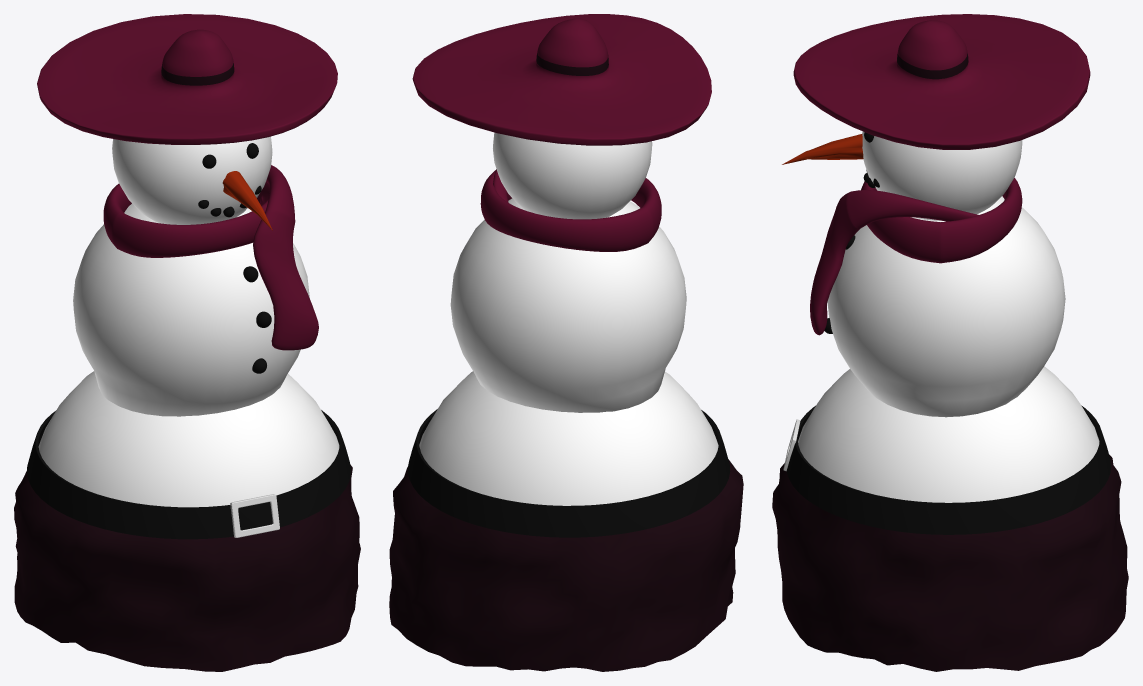
The model's file is Bonnefemme de neige.FBX.
3 views of the same model, side by side, from view 1: azimuth 30°, elevation 25°; view 2: azimuth 150°, elevation 25°; view 3: azimuth 270°, elevation 25° (orthographic).
Visible parts, largest first — view 1: Jupe, Cylinder034, Sphere003, Sphere002, Sphere001, Torus002, Torus001, Box001, Cone001; view 2: Jupe, Sphere003, Cylinder034, Sphere002, Sphere001, Torus001; view 3: Jupe, Sphere003, Cylinder034, Sphere002, Sphere001, Torus001, Torus002, Cone001.
Part boxes in pixels (x1,y1,x2,y2): Jupe: [14, 410, 360, 671]; Cylinder034: [37, 14, 337, 144]; Sphere003: [73, 203, 309, 416]; Sphere002: [38, 371, 339, 507]; Sphere001: [112, 136, 272, 224]; Torus002: [253, 165, 318, 350]; Torus001: [103, 182, 269, 257]; Box001: [230, 494, 279, 537]; Cone001: [222, 171, 272, 230]; Jupe: [389, 409, 743, 671]; Sphere003: [450, 198, 686, 412]; Cylinder034: [412, 14, 711, 145]; Sphere002: [419, 371, 718, 505]; Sphere001: [493, 132, 652, 219]; Torus001: [480, 170, 661, 251]; Jupe: [772, 405, 1128, 671]; Sphere003: [827, 196, 1065, 417]; Cylinder034: [793, 14, 1090, 149]; Sphere002: [798, 366, 1099, 502]; Sphere001: [862, 131, 1022, 220]; Torus001: [861, 178, 1022, 263]; Torus002: [810, 190, 978, 335]; Cone001: [782, 134, 863, 164].
Size of the model in its own units: 34.04 by 65.57 by 34.12.
